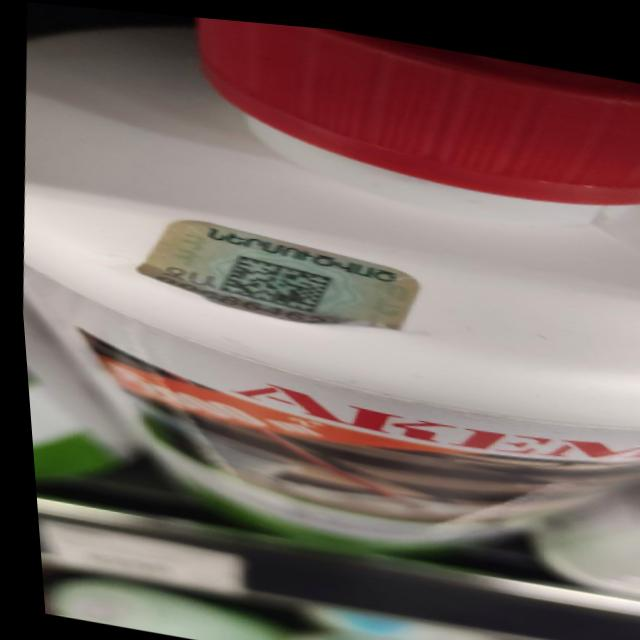datamatrix: (210, 245, 334, 312)
